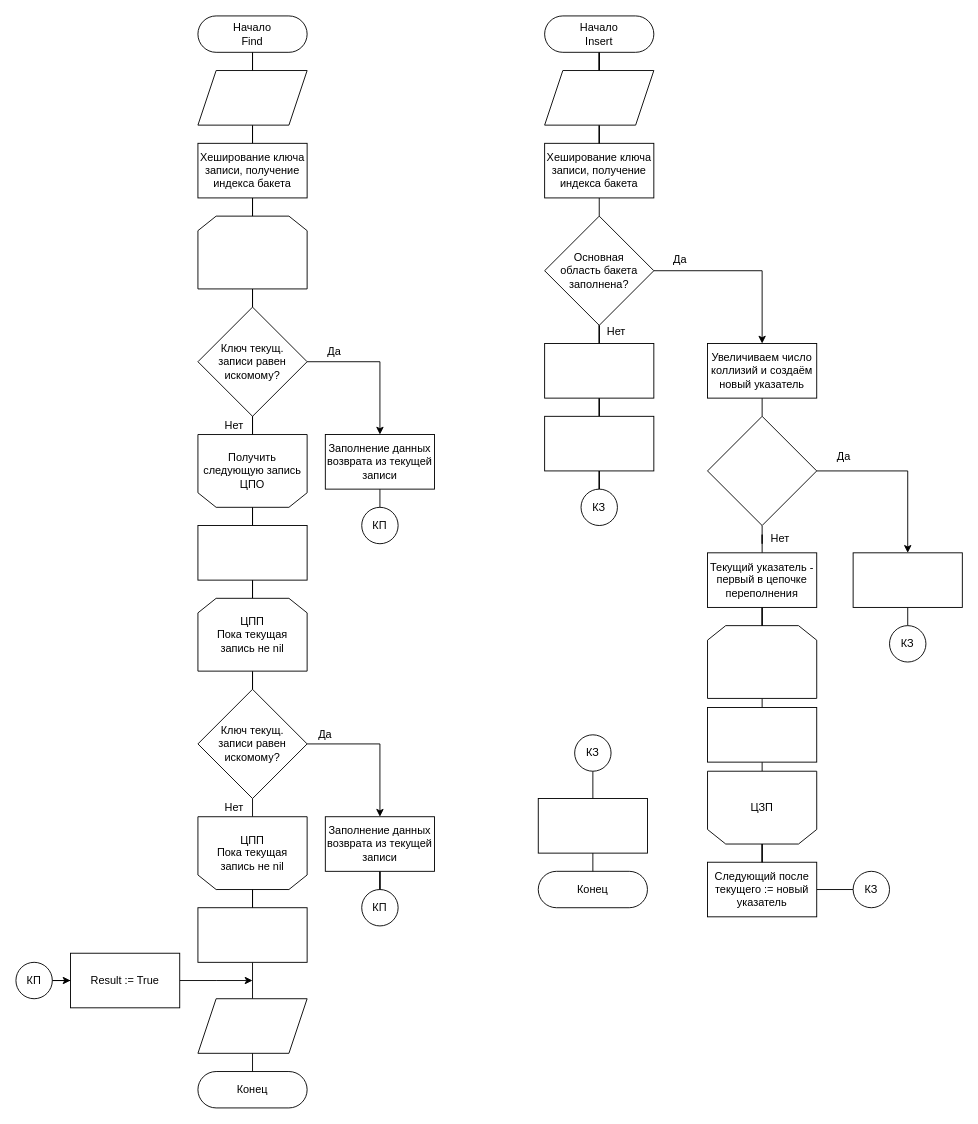
This 978x1124 diagram has some shape labels left out. Here are the shapes that lost their labels. From the top down, the box of each, then its label:
(197, 70, 307, 125): Получение ключа для поиска
(544, 70, 654, 125): Получение записи для вставки
(197, 215, 307, 289): ЦПО Пока не конец основной области
(544, 343, 654, 398): Помещаем запись в основную область пакета по индексу текущей длины
(544, 415, 654, 471): Увеличиваем число записей в основной области и длину бакета
(707, 415, 817, 526): Указатель на обл. переполнения = nil?
(197, 525, 307, 580): Текущая запись := первая запись из области переполнения
(852, 552, 962, 607): Первый элемент области переполнения := новый указатель
(707, 625, 817, 698): ЦЗП Пока следующий указатель не равен nil
(707, 707, 817, 762): Текущий := следующий после текущего
(537, 798, 647, 853): Увеличение количества записей в хеш-таблице
(197, 907, 307, 962): Result := False
(197, 998, 307, 1053): Возврат результата поиска
